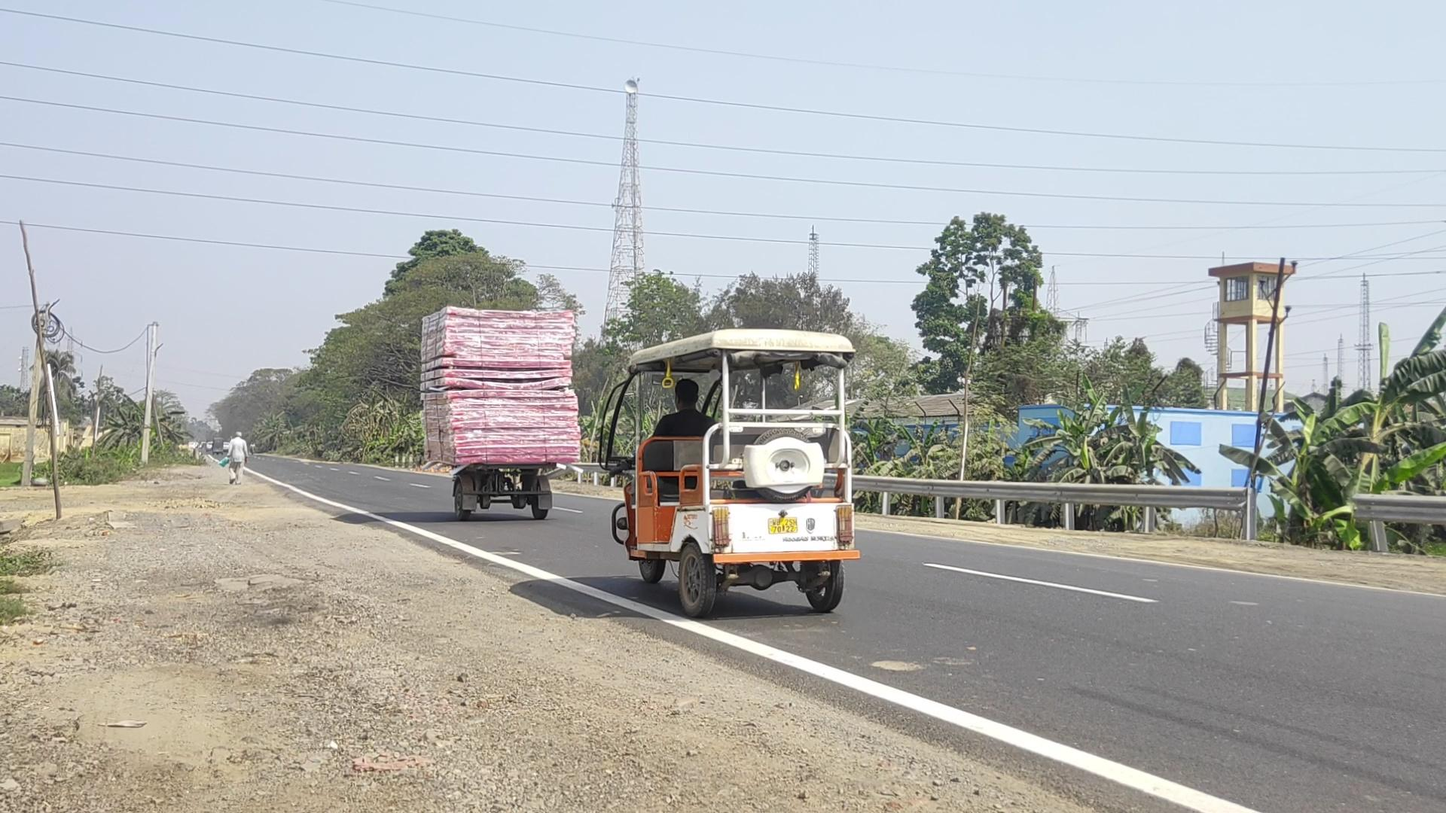Auto: (599, 328, 860, 620)
